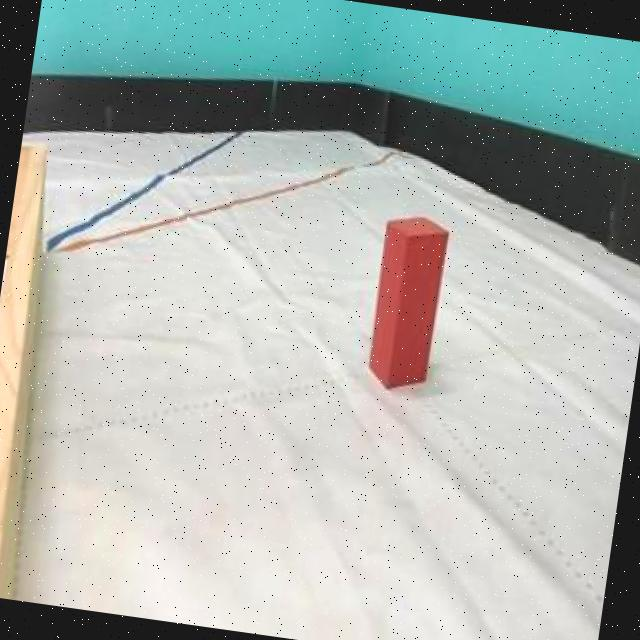redbox: (358, 209, 453, 393)
